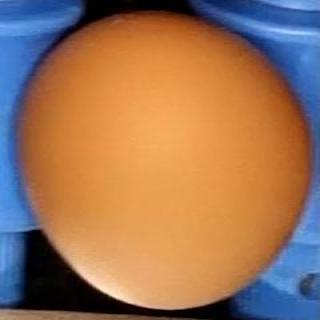Telur: (13, 12, 314, 314)
